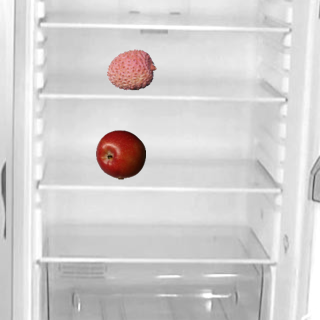Apple Braeburn: (95, 129, 145, 179)
Lychee: (106, 44, 156, 94)
